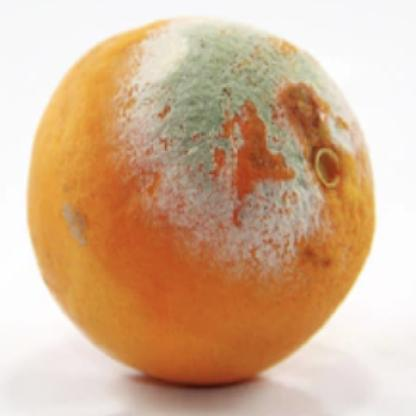rotten: (29, 20, 375, 384)
